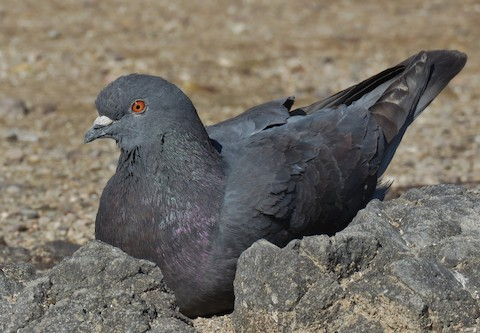pigeon: (84, 47, 469, 320)
